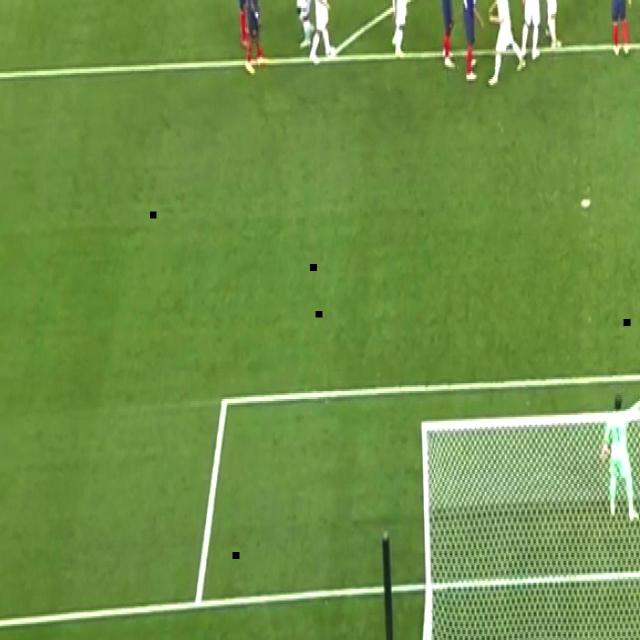player-white: (600, 385, 640, 519), (486, 0, 526, 89), (519, 0, 555, 69), (307, 0, 341, 65), (459, 0, 485, 85), (542, 1, 582, 54), (242, 0, 266, 79), (606, 0, 632, 60), (386, 0, 408, 61), (290, 0, 312, 58), (437, 0, 455, 69), (234, 1, 256, 52)
